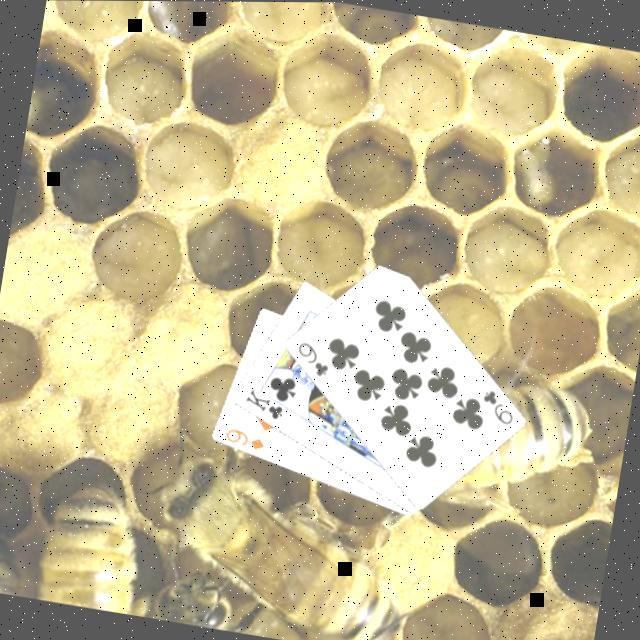9C: (477, 382, 522, 427), (292, 335, 337, 379)
9D: (222, 422, 271, 452)
KC: (242, 381, 298, 423)
